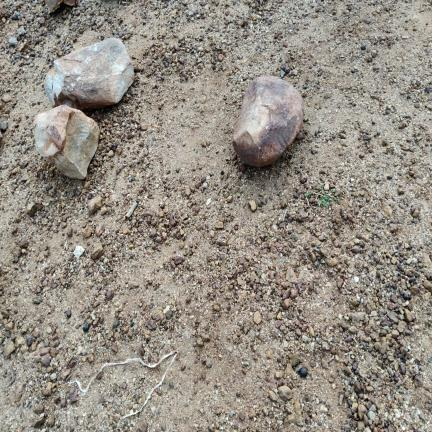Rocks: (45, 38, 133, 109), (233, 77, 303, 166), (34, 106, 99, 179), (46, 0, 78, 12), (88, 196, 102, 214), (278, 386, 292, 400), (33, 413, 45, 428), (92, 244, 103, 260), (283, 415, 295, 429), (4, 341, 14, 357), (286, 268, 297, 282), (358, 404, 367, 420), (95, 223, 105, 236), (43, 382, 52, 396), (74, 246, 84, 258), (42, 354, 51, 367), (27, 202, 36, 215), (404, 309, 413, 322), (69, 388, 77, 402), (33, 404, 44, 414), (414, 375, 423, 387), (411, 205, 419, 218), (217, 235, 227, 245), (424, 279, 431, 293), (48, 414, 55, 427), (294, 402, 301, 415), (254, 311, 261, 324), (19, 239, 28, 249), (327, 258, 337, 267), (138, 421, 147, 431), (269, 391, 277, 401), (249, 200, 256, 211), (248, 408, 255, 419), (18, 26, 26, 35), (9, 37, 17, 46), (299, 368, 307, 377), (0, 121, 7, 131), (206, 358, 212, 368), (0, 132, 2, 143)
